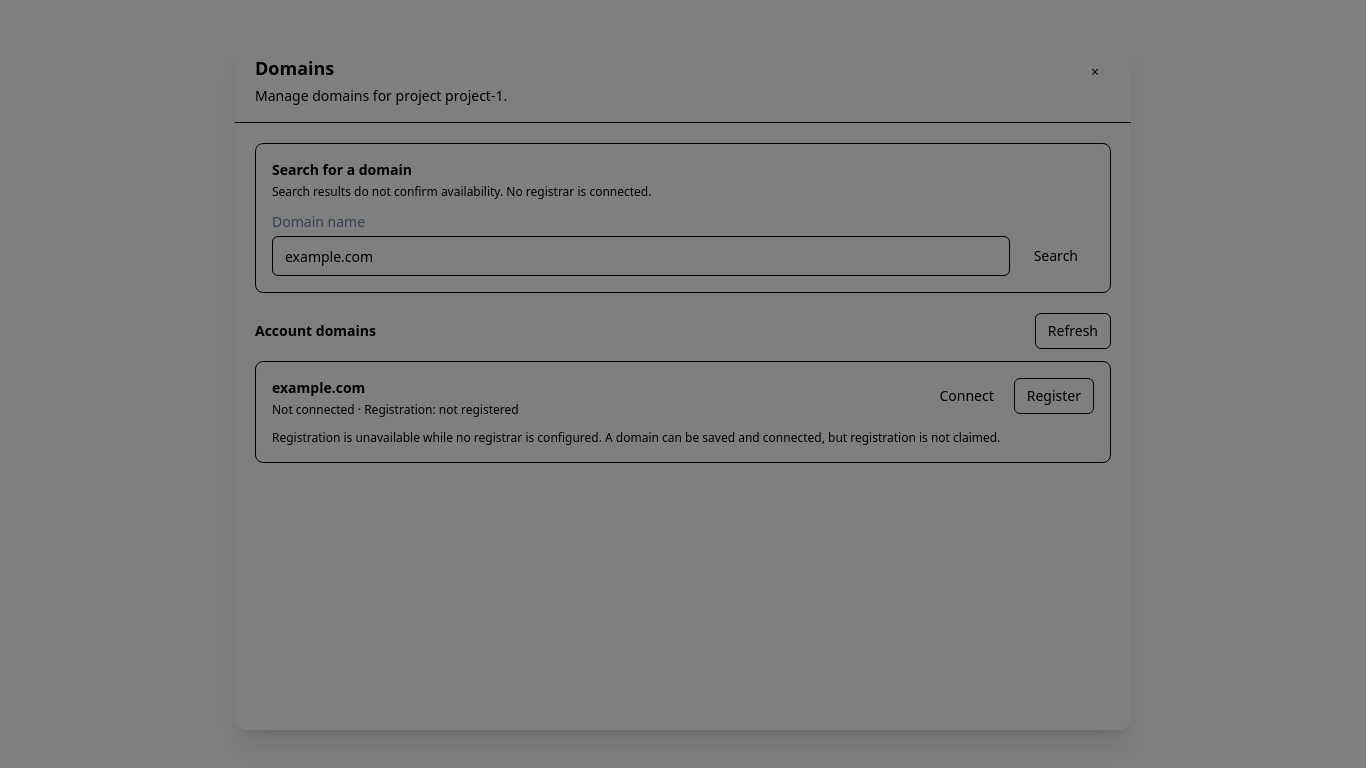
Test case: DomainPanel › surfaces the registrar boundary without claiming registration
This screenshot has width=1366, height=768.
Click the button "Register". click: (1054, 396)
box: [1014,378,1094,414]
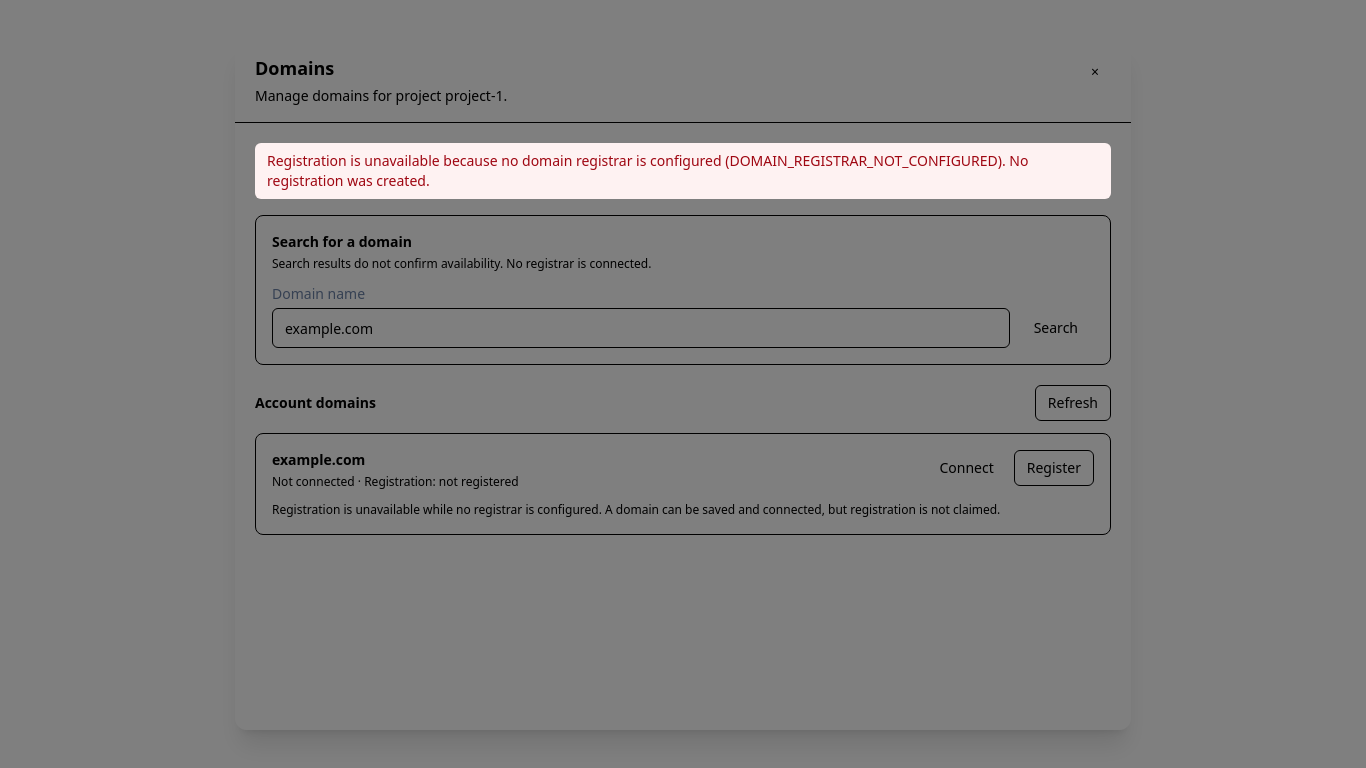
Expected: the message shows "no domain registrar is configured (DOMAIN_REGISTRAR_NOT_CONFIGURED)", [267,151,1028,190]
Expected: the text "No registration was created" is shown, [267,151,1028,190]
